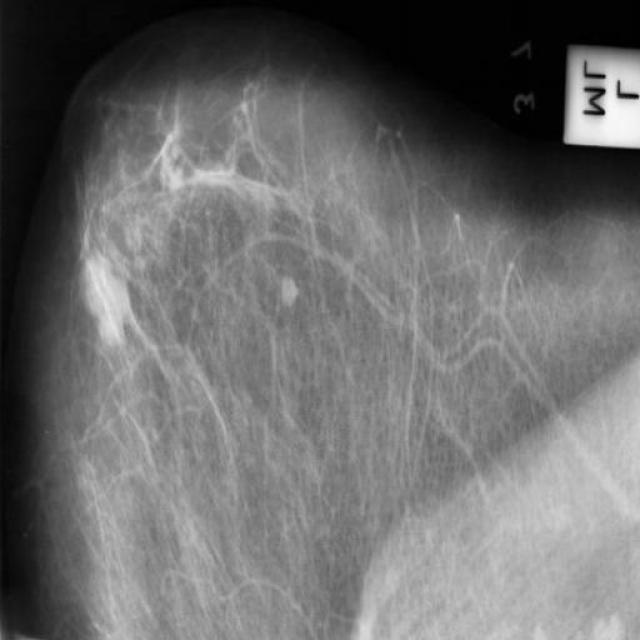cancer: (64, 199, 160, 366), (153, 467, 243, 602)
